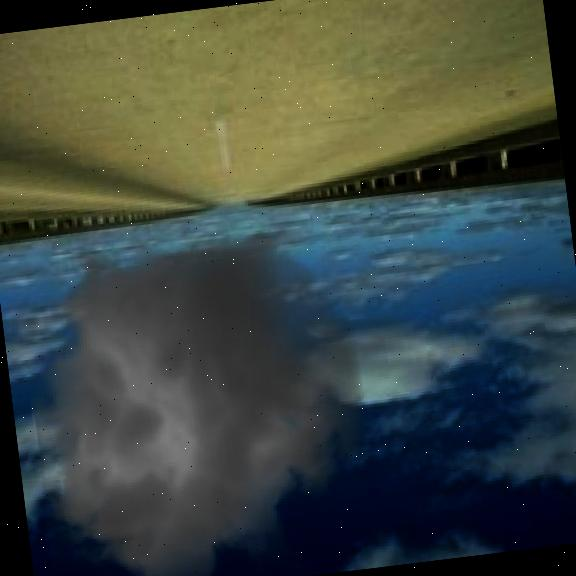smoke: (0, 199, 396, 576)
